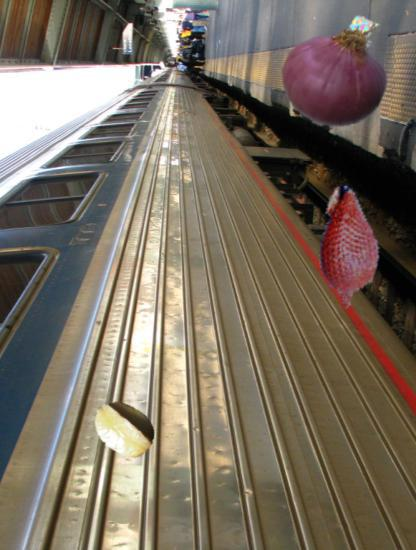Carambula: (92, 396, 157, 461)
Onion: (277, 10, 399, 132)
Salak: (287, 186, 411, 310)
